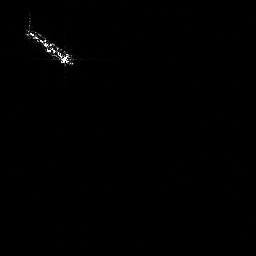ship: (26, 30, 73, 66)
